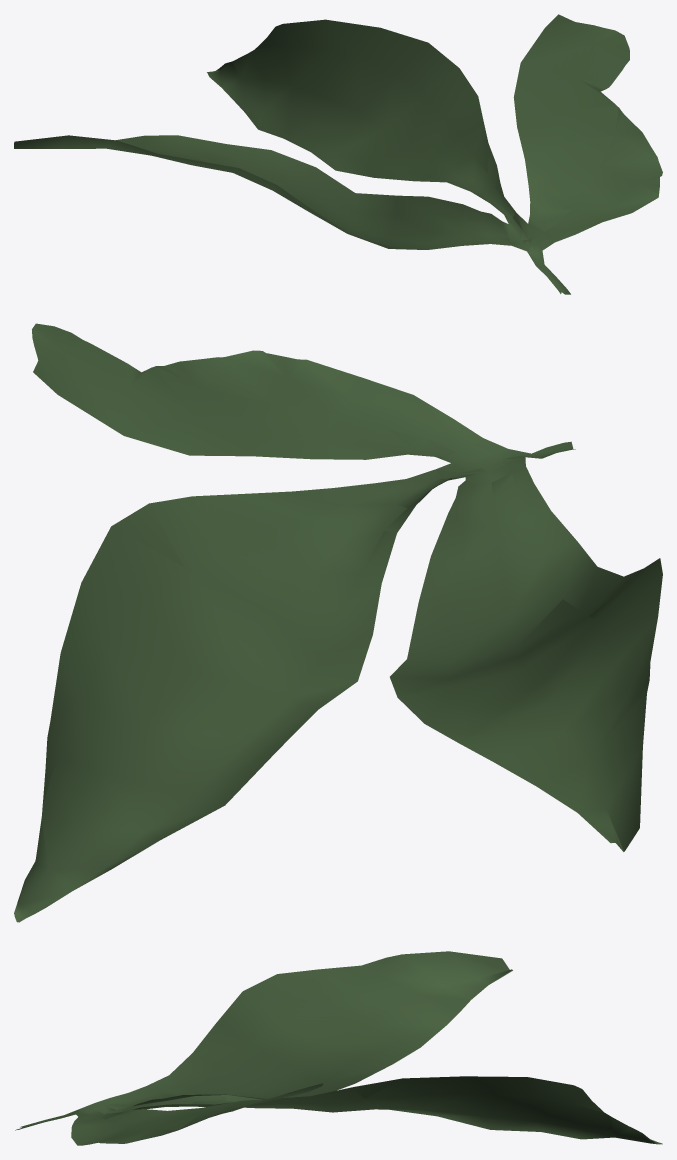
The model's file is trees-leaves-leaf-cluster_v1.glb.
The picture shows the model from 3 angles, top to bottom: view 1: azimuth 30°, elevation 25°; view 2: azimuth 150°, elevation 25°; view 3: azimuth 270°, elevation 25°; orthographic projection. The views are drawn at different scales.
Parts seen in each view (by area): view 1: Leaf Cluster_v1; view 2: Leaf Cluster_v1; view 3: Leaf Cluster_v1.
Part boxes in pixels (bbox=[...]): Leaf Cluster_v1: bbox=[14, 14, 662, 294]; Leaf Cluster_v1: bbox=[14, 323, 662, 922]; Leaf Cluster_v1: bbox=[15, 951, 662, 1145].
Bounding box in the file's own units: 0.1213 × 0.0356 × 0.15.
